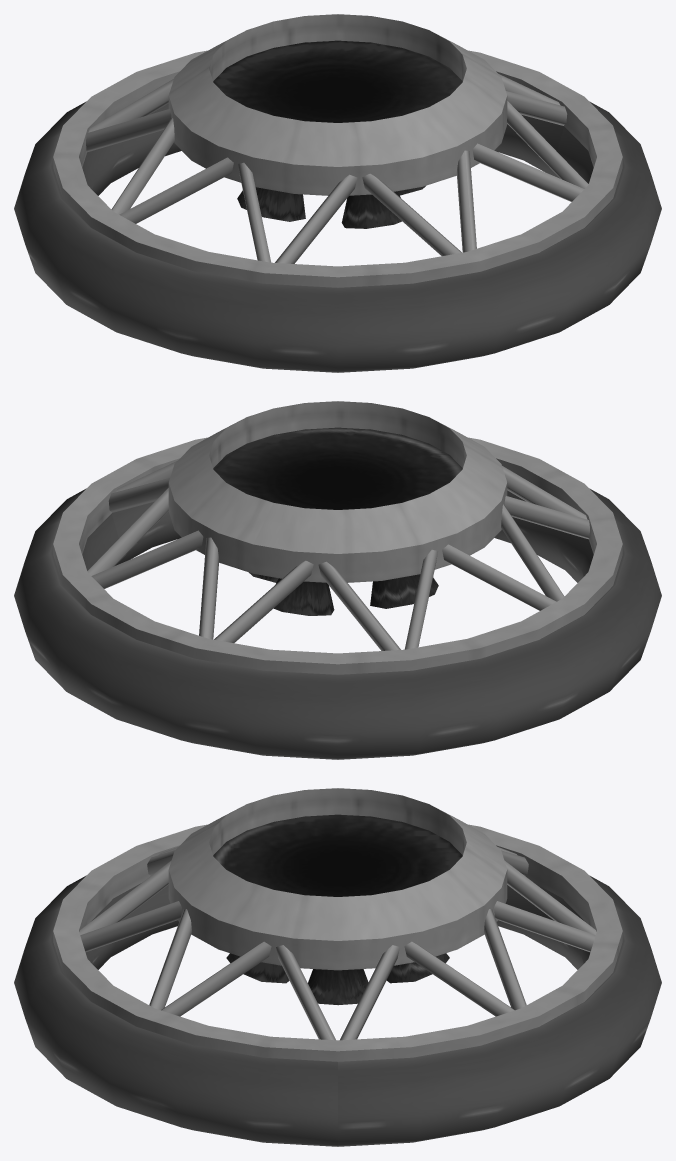
File: engine.DAE
3 renders of one model, top to bottom at view 1: azimuth 30°, elevation 25°; view 2: azimuth 150°, elevation 25°; view 3: azimuth 270°, elevation 25°, orthographic.
Visible parts, largest first — view 1: Object01; view 2: Object01; view 3: Object01.
Part boxes in pixels (x1,y1,x2,y2): Object01: [14, 14, 661, 372]; Object01: [14, 401, 661, 759]; Object01: [14, 788, 661, 1146].
Size of what is drawn, in the model's own units: 1.11 by 0.3438 by 1.11.
